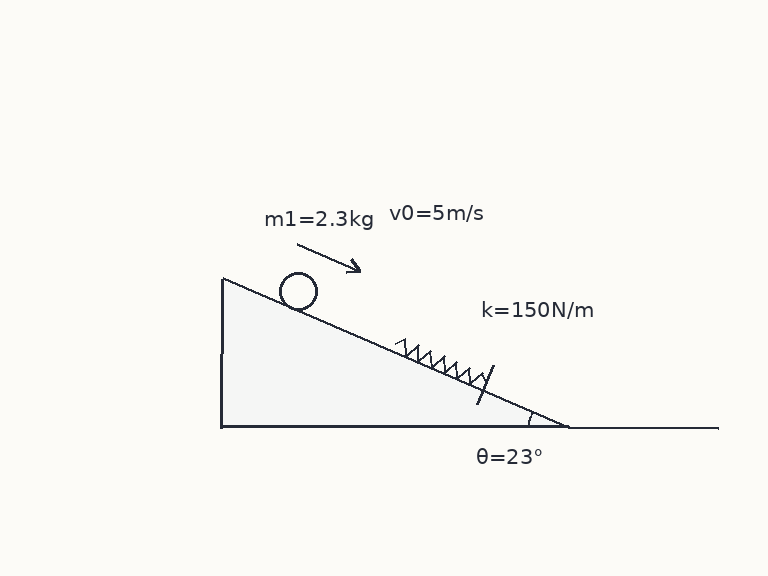ball: (277, 270, 319, 312)
ramp: (220, 278, 571, 429)
spring: (394, 338, 488, 385)
